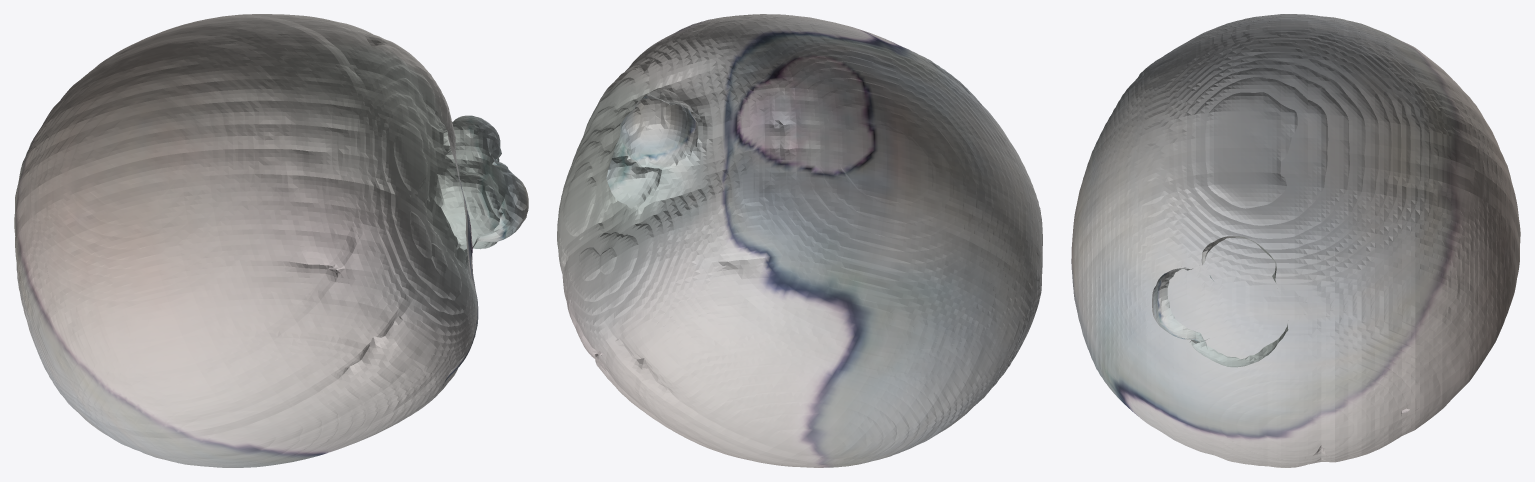
File: kira.glb
The picture shows the model from 3 angles, left to right: view 1: azimuth 30°, elevation 25°; view 2: azimuth 150°, elevation 25°; view 3: azimuth 270°, elevation 25°; orthographic projection.
Visible parts, largest first — view 1: world; view 2: world; view 3: world.
Boxes of the visible parts, x1,y1,x2,y2 form: world: (14, 14, 528, 467); world: (557, 14, 1042, 467); world: (1071, 14, 1520, 467).
Bounding box in the file's own units: 0.9914 × 0.893 × 0.9138.
